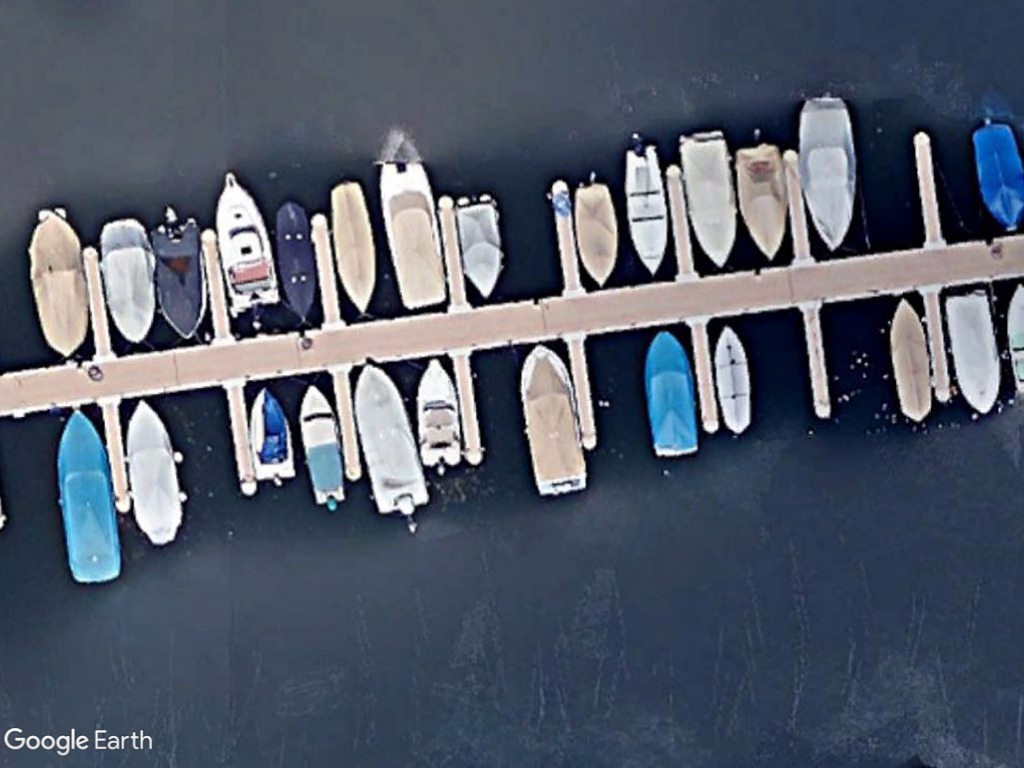boat: (373, 127, 451, 308), (48, 406, 122, 586), (513, 340, 593, 501), (350, 360, 430, 519), (793, 92, 865, 253), (120, 399, 190, 547), (210, 170, 278, 318), (22, 208, 85, 360), (677, 128, 743, 271), (639, 326, 705, 460), (939, 290, 1005, 419), (144, 217, 211, 343), (323, 175, 380, 320), (619, 138, 675, 277), (97, 214, 155, 347), (730, 141, 792, 263), (411, 354, 470, 477), (882, 296, 935, 426), (297, 383, 348, 507), (966, 122, 1024, 231), (271, 197, 318, 328), (567, 175, 620, 288), (245, 381, 300, 486), (456, 190, 507, 301), (709, 321, 753, 433)
